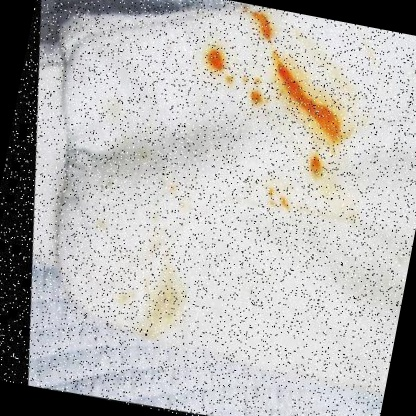kimchi: (251, 50, 366, 149), (129, 226, 199, 347), (136, 147, 206, 210), (194, 35, 245, 90), (233, 5, 284, 46), (253, 182, 299, 217), (294, 148, 337, 183), (243, 75, 269, 109), (113, 288, 135, 308), (91, 216, 111, 235)
